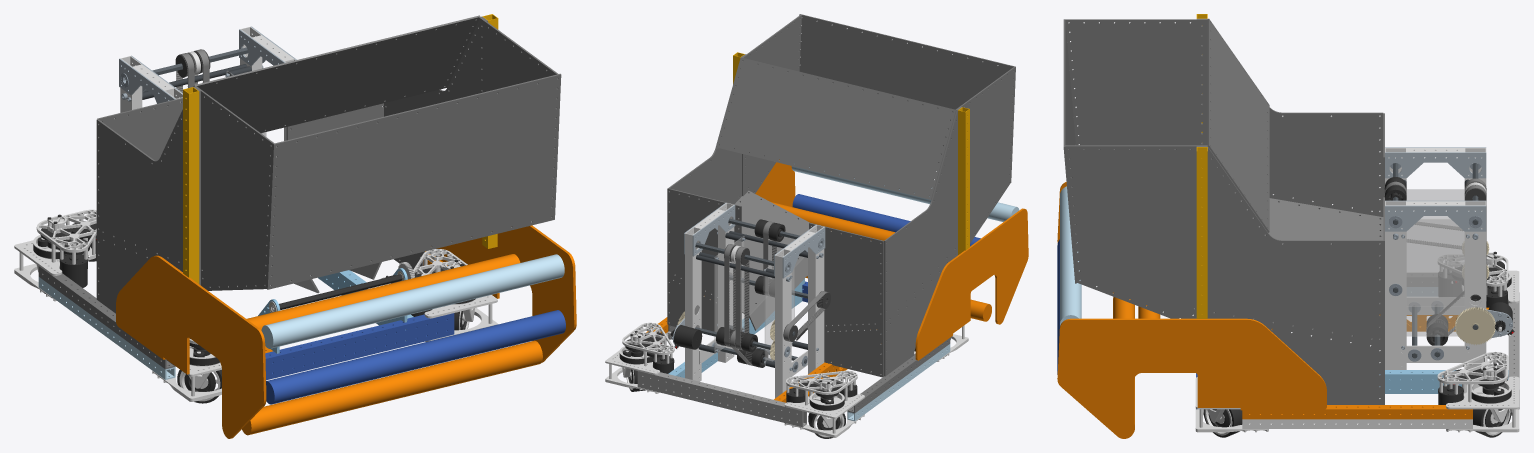
3 renders of one model, left to right at view 1: azimuth 30°, elevation 25°; view 2: azimuth 150°, elevation 25°; view 3: azimuth 270°, elevation 25°, orthographic. The views are drawn at different scales.
Parts seen in each view (by area): view 1: Part 37, Part 40, Part 36 (×2), Part 35 (×2), Part 8, Part 6 (×2), Part 5, Part 3, Tube 50x25x535 mm, Part 7, MK4i Master Part V2_Default Falcon 500 Config (×5), Tube 25x25x535 mm (×2) (+8 smaller); view 2: Part 40, Part 35 (×2), Part 37, Part 36 (×2), Part 39, Part 8, Part 38, 0128_Back Boxtube (×2), MK4i Master Part V2_Default Falcon 500 Config (×5), Part 42, Tube 50x25x535 mm, 0129_Front Boxtube (×2) (+14 smaller); view 3: Part 36 (×2), Part 35 (×2), Part 7, 0152_Feeder Wall (×2), Part 40, Tube 25x25x535 mm (×2), MK4i Master Part V2_Default Falcon 500 Config (×5), Part 41, 0130_Boxtube Gusset (×2), 0129_Front Boxtube, 0128_Back Boxtube, Tube 25x25x532 mm (+8 smaller).
Boxes of the visible parts, x1,y1,x2,y2 form: Part 37: [266, 73, 561, 289]; Part 40: [173, 15, 480, 132]; Part 36 (×2): [195, 17, 557, 290]; Part 35 (×2): [96, 16, 487, 313]; Part 8: [116, 255, 266, 438]; Part 6 (×2): [242, 254, 542, 435]; Part 5: [261, 254, 564, 348]; Part 3: [266, 310, 565, 404]; Tube 50x25x535 mm: [265, 313, 454, 380]; Part 7: [435, 225, 576, 362]; MK4i Master Part V2_Default Falcon 500 Config (×5): [14, 209, 497, 401]; Tube 25x25x535 mm (×2): [38, 266, 175, 379]; Part 40: [716, 57, 956, 199]; Part 35 (×2): [668, 54, 961, 376]; Part 37: [799, 14, 1015, 182]; Part 36 (×2): [742, 15, 1015, 243]; Part 39: [809, 223, 883, 377]; Part 8: [915, 208, 1028, 360]; Part 38: [667, 188, 741, 331]; 0128_Back Boxtube (×2): [685, 227, 791, 398]; MK4i Master Part V2_Default Falcon 500 Config (×5): [605, 322, 864, 437]; Part 42: [675, 190, 809, 330]; Tube 50x25x535 mm: [637, 371, 806, 427]; 0129_Front Boxtube (×2): [718, 203, 824, 373]; Part 36 (×2): [1065, 19, 1207, 318]; Part 35 (×2): [1196, 18, 1383, 404]; Part 7: [1057, 318, 1326, 438]; 0152_Feeder Wall (×2): [1406, 189, 1471, 336]; Part 40: [1207, 18, 1269, 232]; Tube 25x25x535 mm (×2): [1242, 405, 1472, 428]; MK4i Master Part V2_Default Falcon 500 Config (×5): [1195, 254, 1519, 432]; Part 41: [1235, 192, 1383, 303]; 0130_Boxtube Gusset (×2): [1385, 152, 1486, 231]; 0129_Front Boxtube: [1385, 201, 1406, 369]; 0128_Back Boxtube: [1464, 201, 1486, 369]; Tube 25x25x532 mm: [1196, 147, 1207, 318].
Size of the model in its own units: 0.762 by 0.7567 by 1.07.
